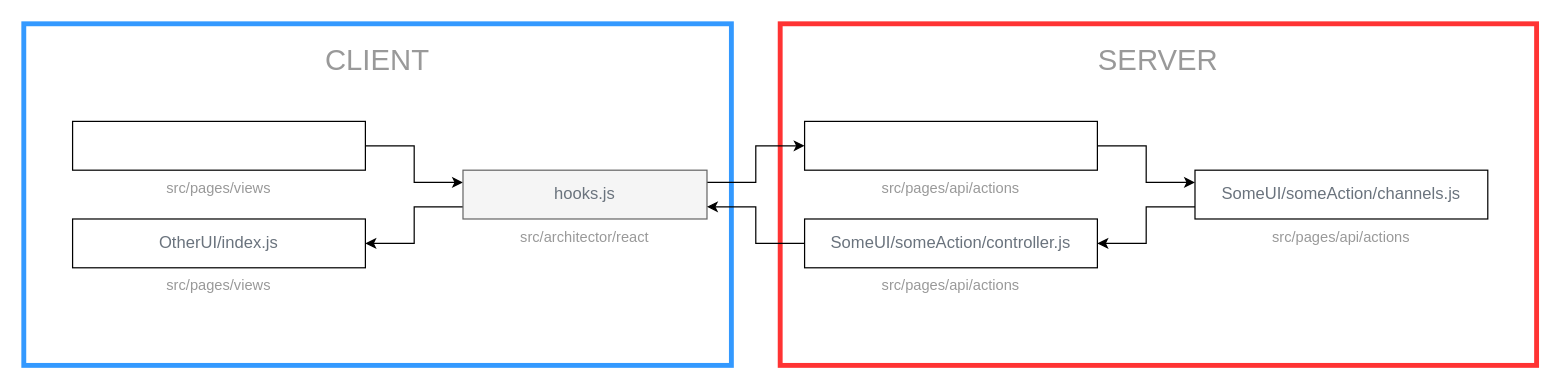
Image size: 1559x388. Some labels were removed from this diagram. Here are the shapes that lost their labels. From the top down, the box of each, then its label:
(71, 120, 365, 170): SomeUI/index.js
(803, 120, 1097, 170): SomeUI/someAction/index.js
